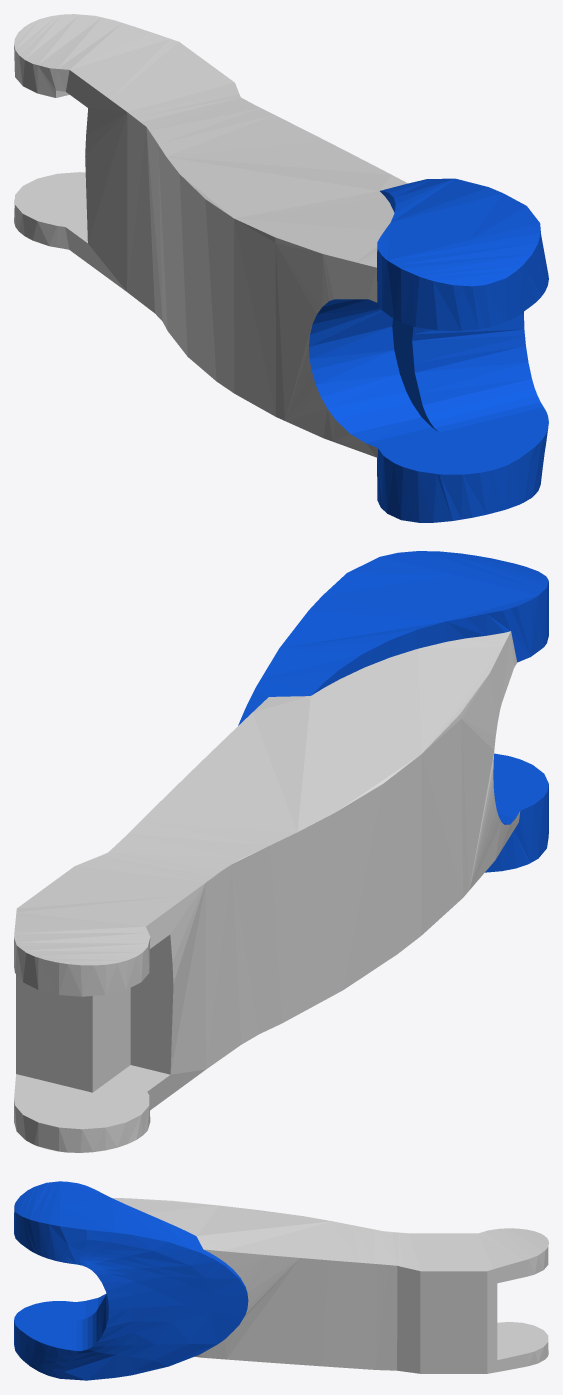
Rendered from L_HIP_P_LINK_mesh.dae.
3 views of the same model, one above another, from view 1: azimuth 30°, elevation 25°; view 2: azimuth 150°, elevation 25°; view 3: azimuth 270°, elevation 25° (orthographic). The views are drawn at different scales.
Visible parts, largest first — view 1: L_HIP_P_LINK (×2); view 2: L_HIP_P_LINK (×2); view 3: L_HIP_P_LINK (×2).
Part boxes in pixels (left/top/right/bottom): L_HIP_P_LINK (×2): left=14, top=14, right=548, bottom=522; L_HIP_P_LINK (×2): left=14, top=551, right=548, bottom=1152; L_HIP_P_LINK (×2): left=14, top=1181, right=548, bottom=1380.
Size of the model in its own units: 0.1097 by 0.134 by 0.4259.
